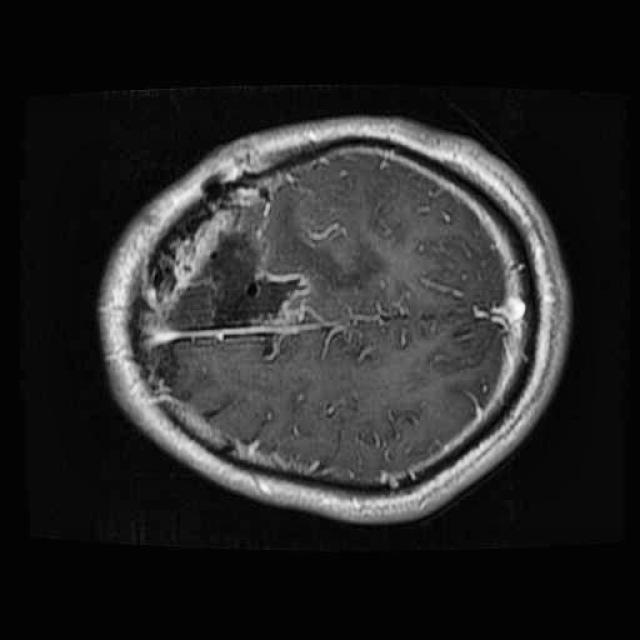Non-Tumor: (165, 219, 322, 358)
